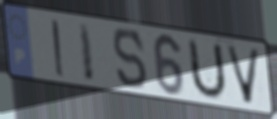6: (153, 32, 185, 97)
I: (77, 21, 97, 84), (50, 18, 67, 80)
S: (111, 27, 150, 92)
U: (188, 36, 229, 102)
V: (223, 43, 263, 107)
